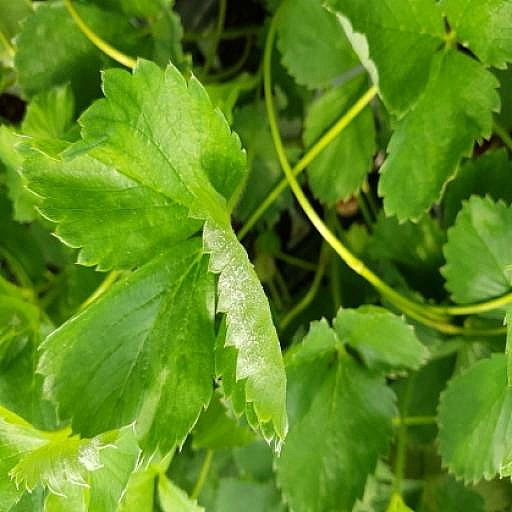Powdery Mildew Leaf: (222, 57, 328, 333), (64, 390, 192, 511), (369, 0, 511, 109)
